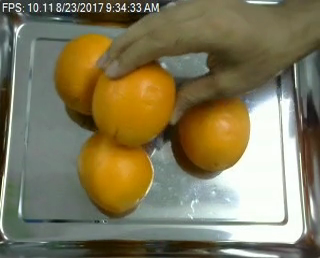Orange: (77, 131, 155, 214)
